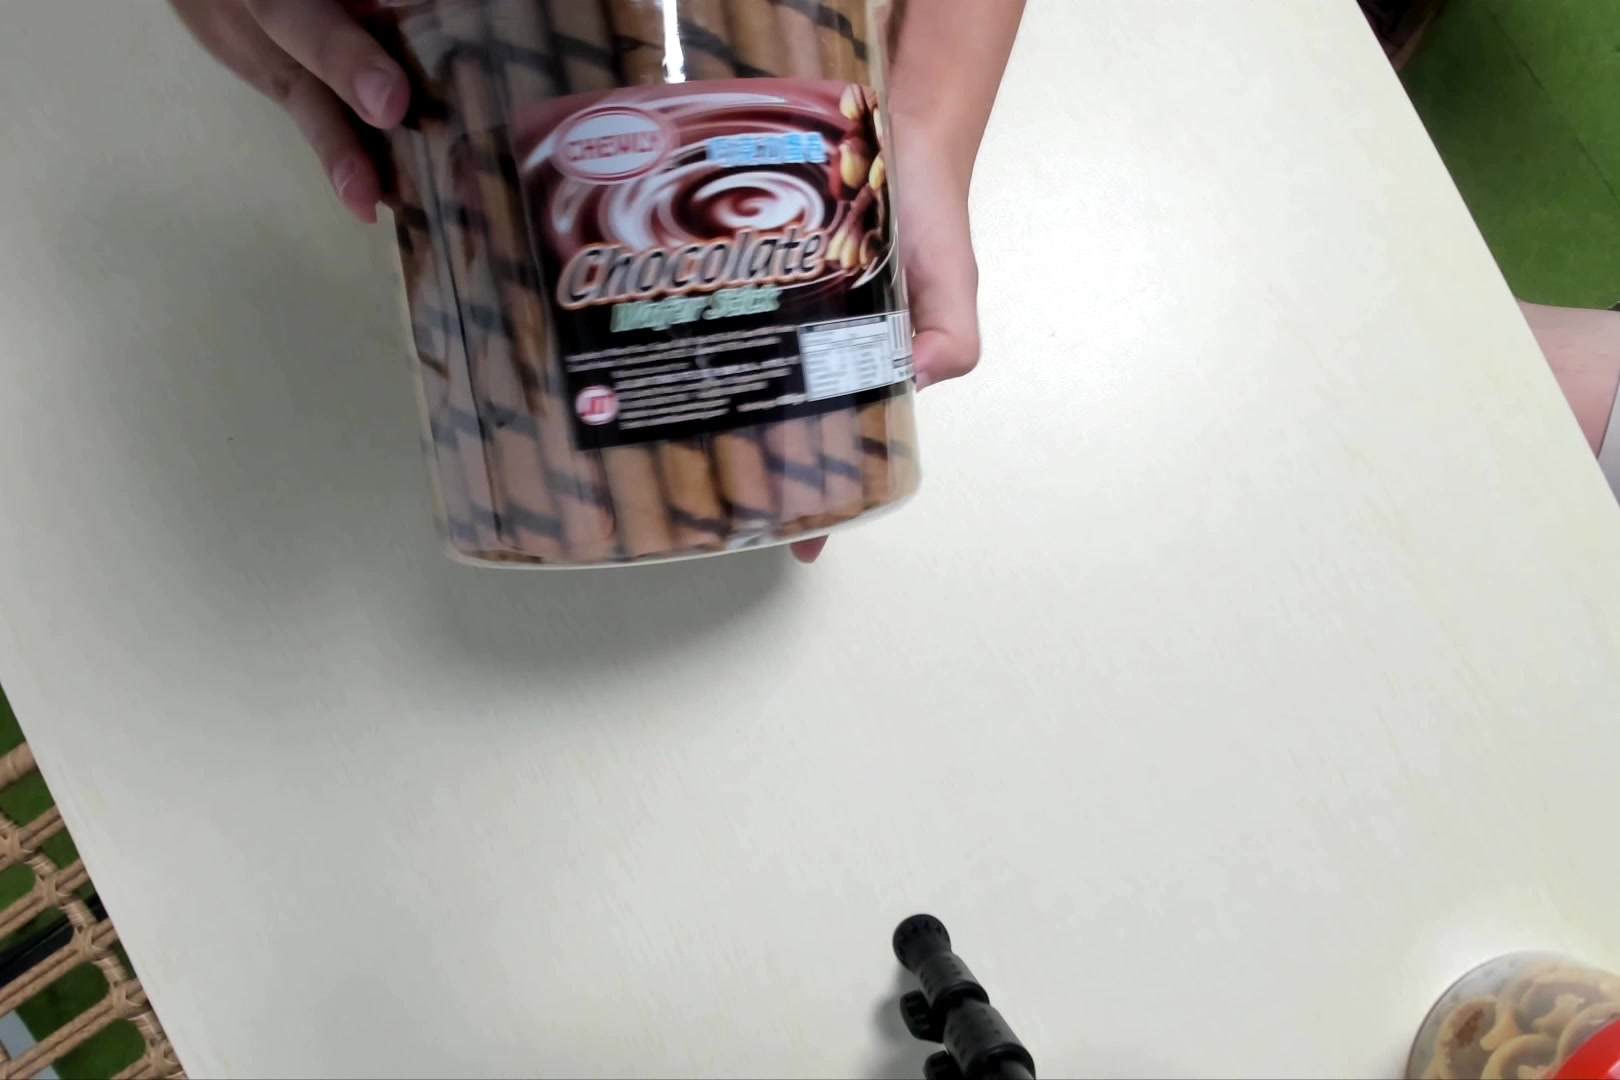BiscuitsCrackersCookies_400-499g_Halal_NonHealthy: (374, 11, 916, 579)
